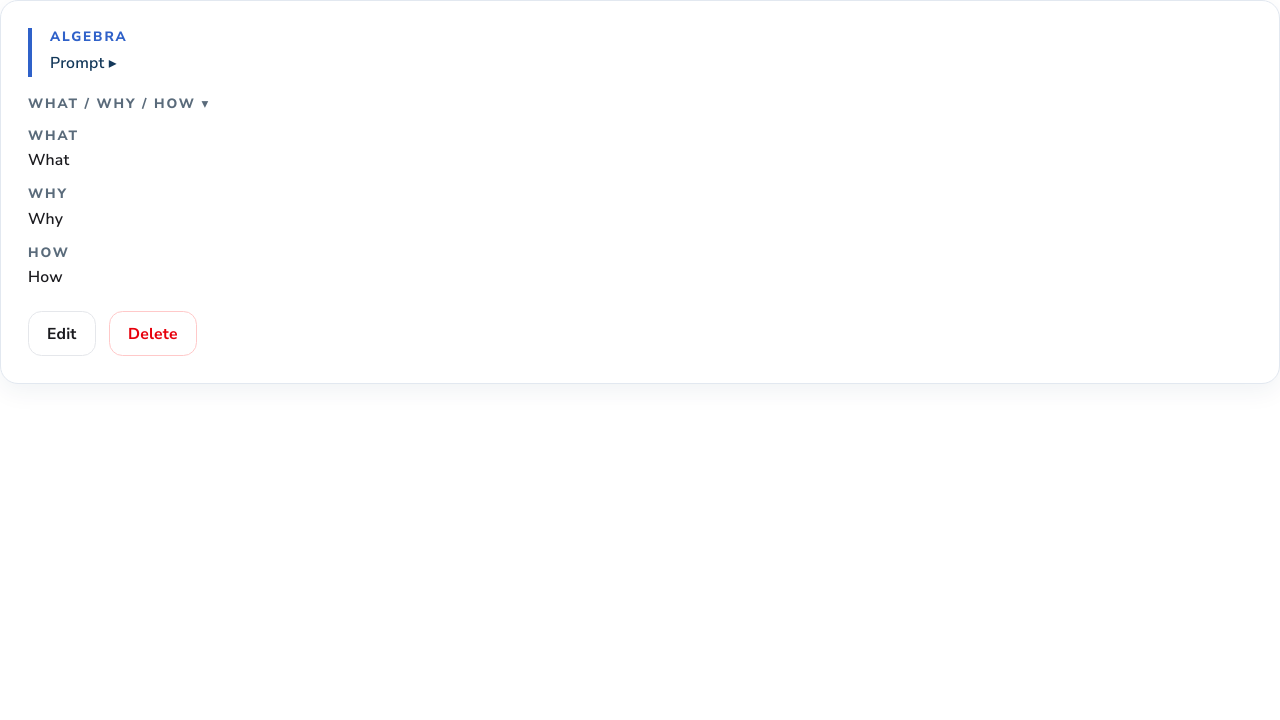
Scenario: NotebookEntryCard › collapses question on second click
Click the text "Prompt ▸" at (83, 64), box x1=50 y1=52 x2=117 y2=74
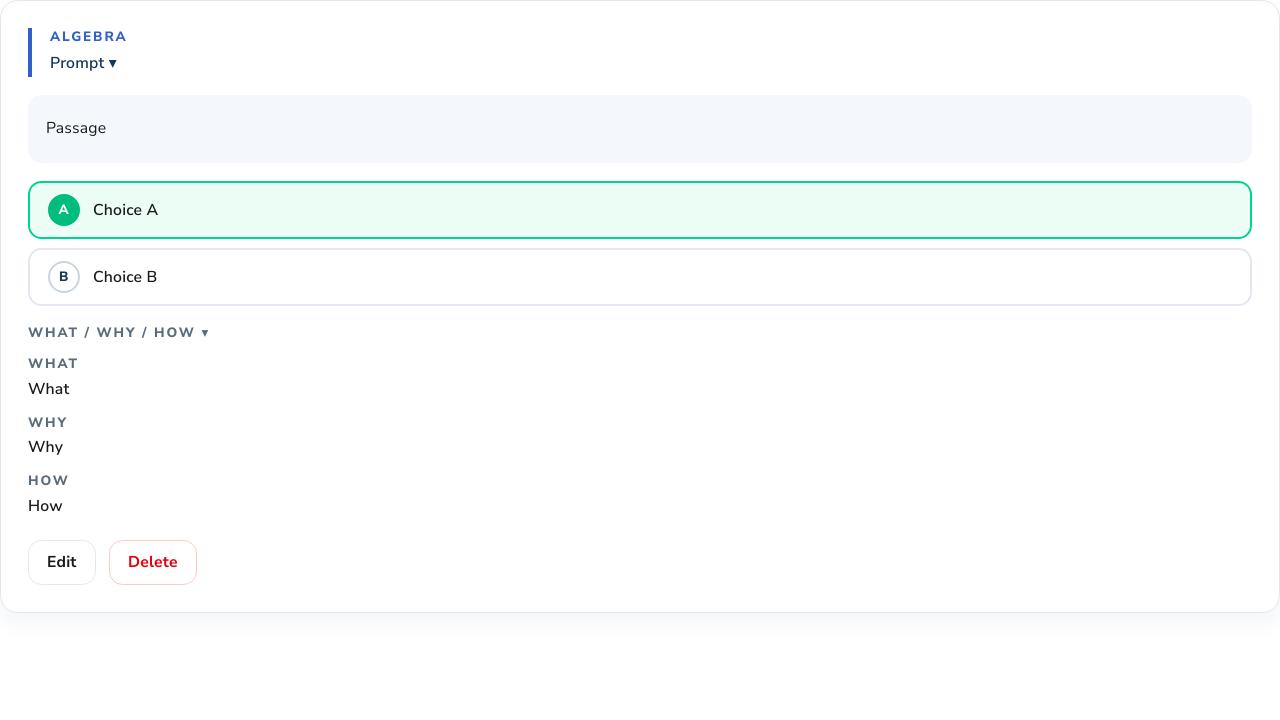
Click the text "Prompt ▾" at (83, 64), box x1=50 y1=52 x2=117 y2=74
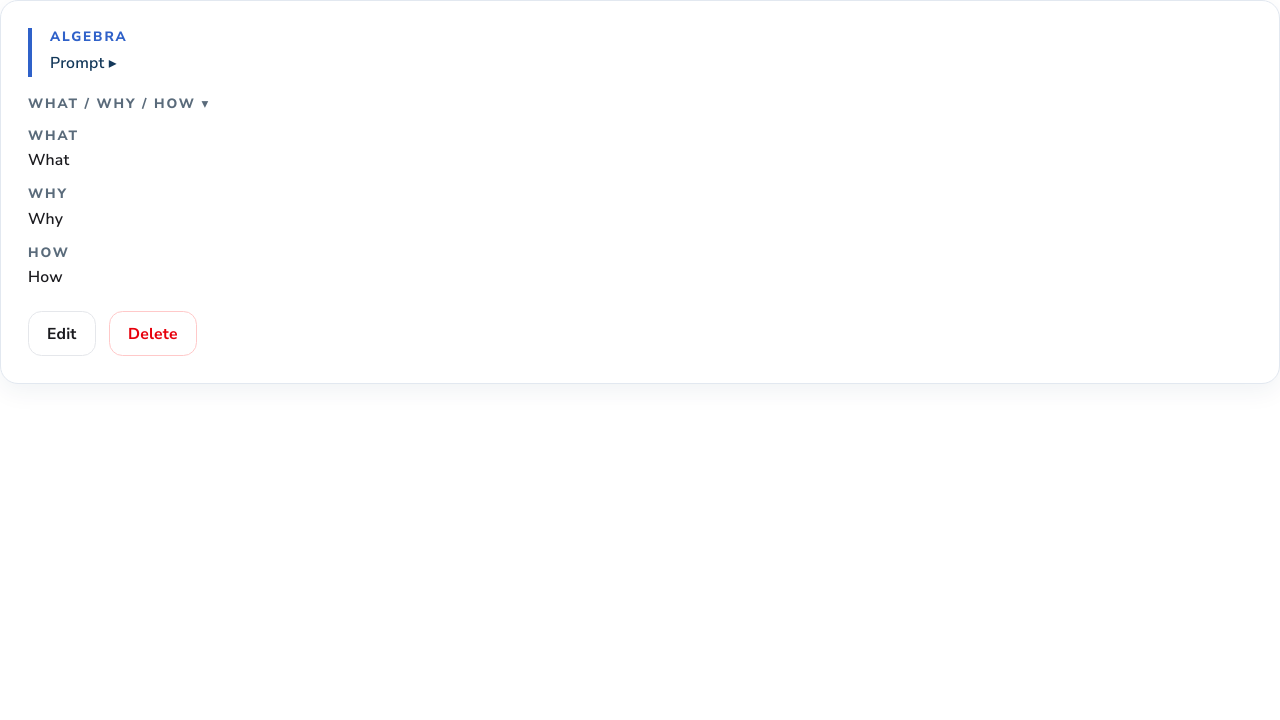
Now the text "Prompt ▸" is shown, box x1=50 y1=52 x2=117 y2=74
Now the text "Passage" is gone
